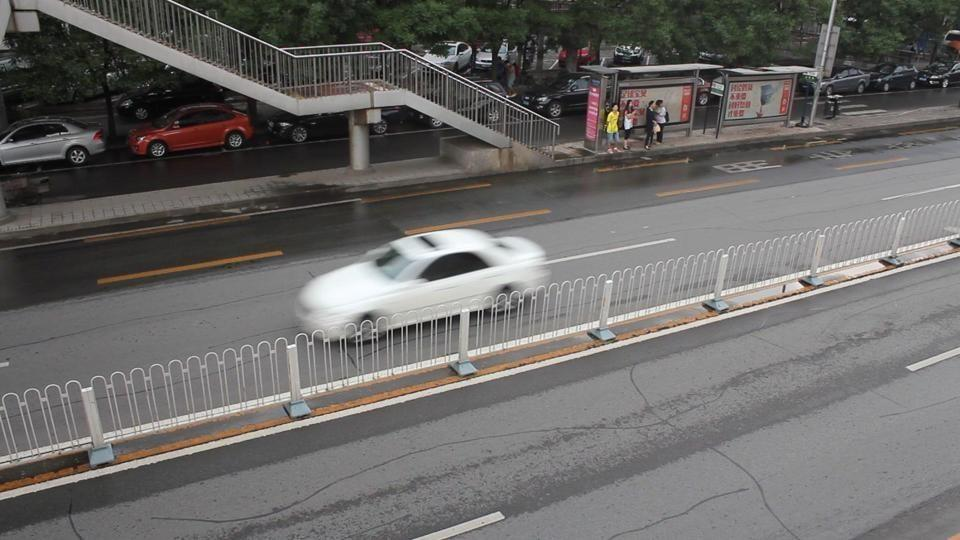car: (292, 226, 553, 343), (127, 103, 256, 160), (0, 118, 106, 172), (514, 76, 600, 118), (422, 40, 474, 73), (866, 67, 920, 93), (821, 68, 872, 95), (925, 63, 960, 88), (472, 47, 493, 72), (944, 67, 960, 89)
